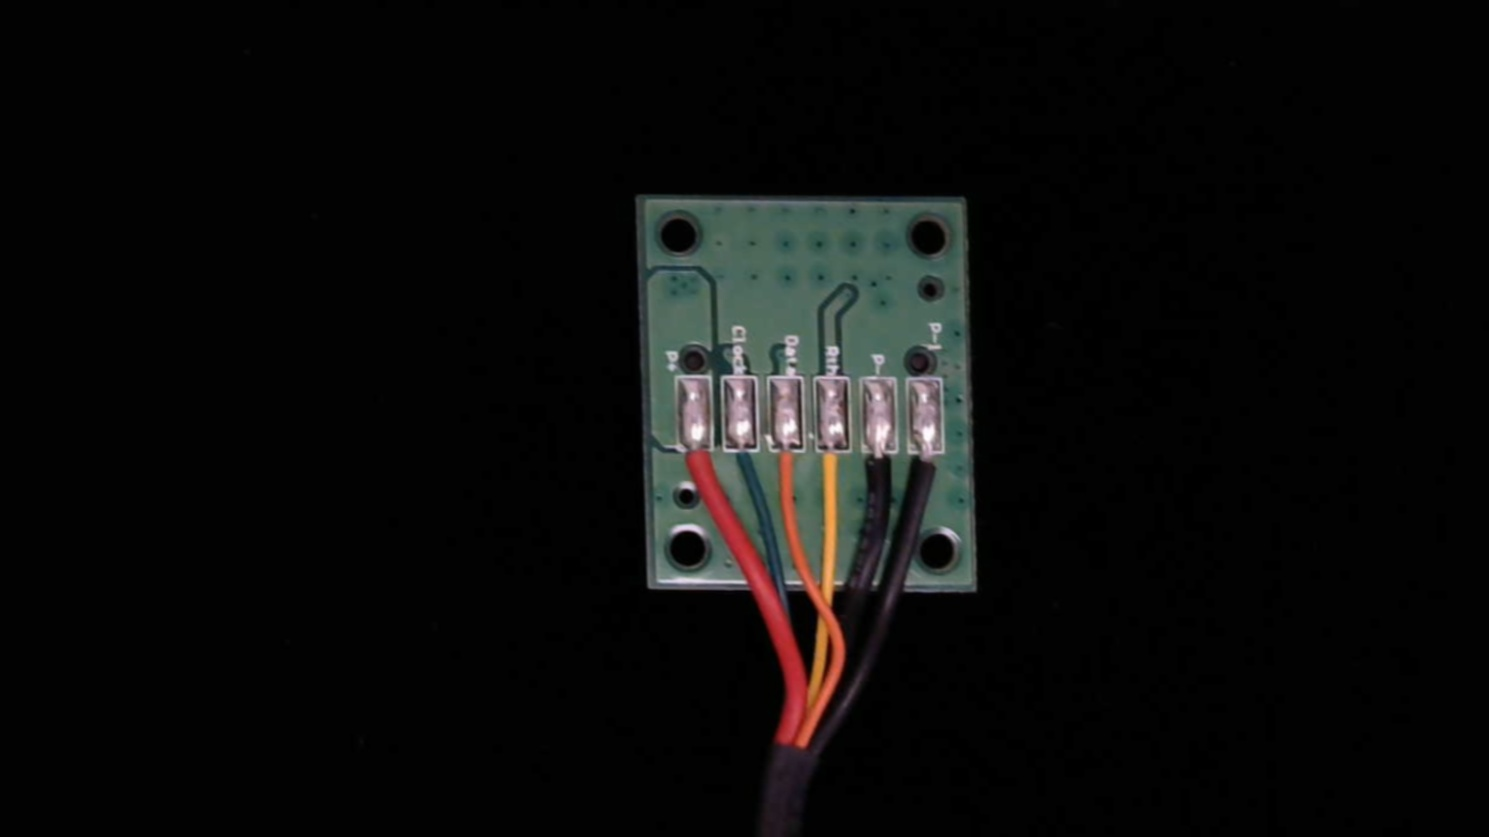Black: (858, 431, 902, 518)
Black1: (914, 432, 951, 515)
Green: (725, 430, 761, 503)
Orange: (769, 431, 811, 517)
Red: (678, 430, 718, 510)
Yellow: (810, 432, 854, 520)
